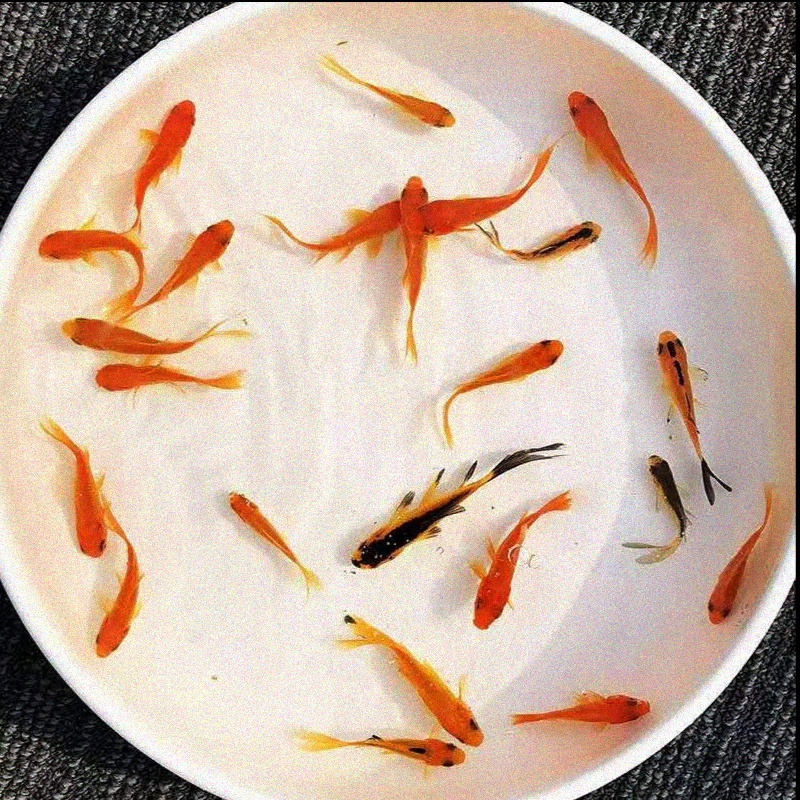fry: (334, 445, 502, 573), (556, 75, 688, 233), (339, 612, 491, 749), (427, 332, 569, 453), (470, 491, 582, 634), (311, 38, 470, 137), (654, 310, 733, 501), (402, 147, 558, 243), (112, 86, 209, 221), (207, 478, 328, 585), (698, 470, 772, 636), (38, 422, 116, 570), (29, 215, 151, 308), (618, 444, 697, 585), (80, 536, 166, 665), (501, 681, 666, 744), (49, 310, 251, 361), (258, 194, 400, 263), (300, 724, 466, 780), (82, 359, 251, 405), (158, 211, 239, 306), (496, 213, 616, 275), (396, 170, 435, 360)
